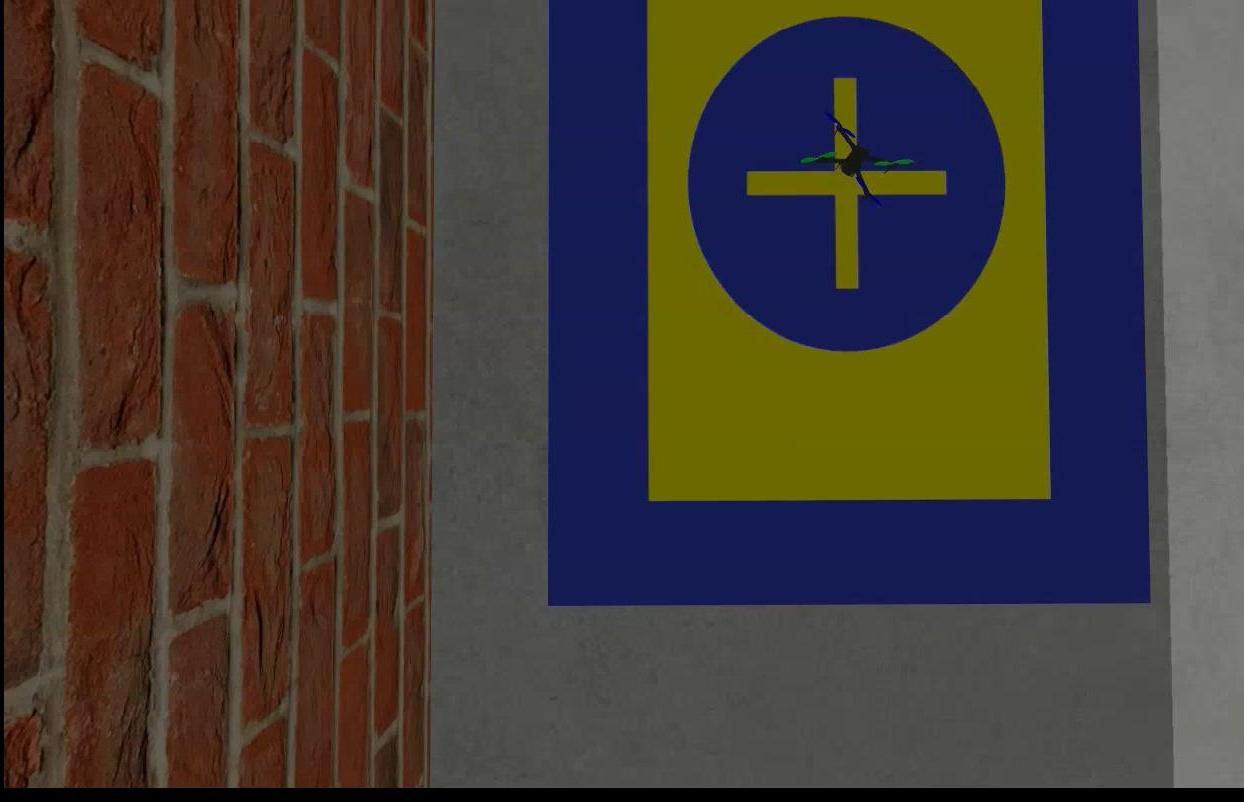large_base: (547, 1, 1151, 613)
